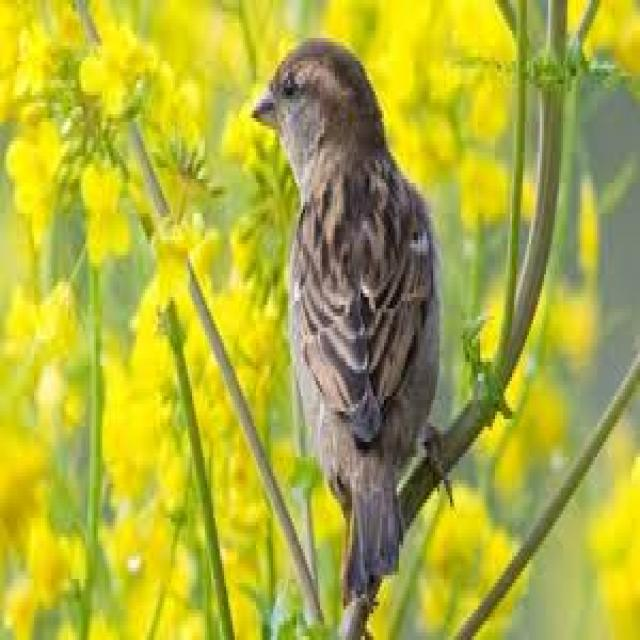bird: (248, 31, 440, 619)
